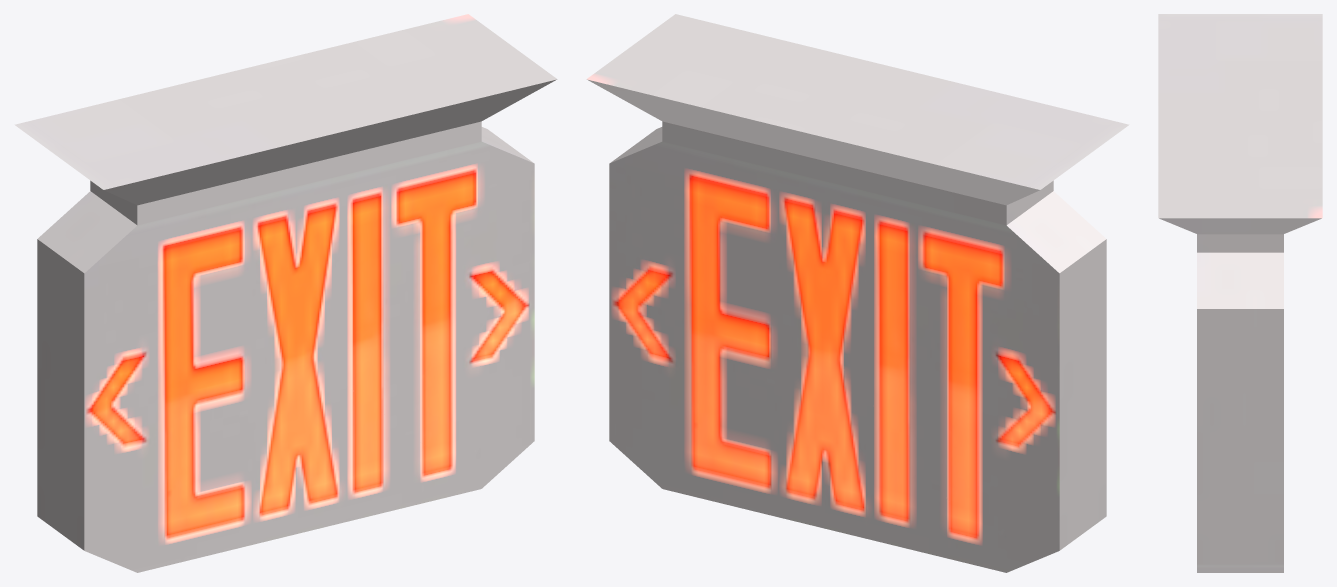
Rendered from sign_exit.fbx.
3 views of the same model, side by side, from view 1: azimuth 30°, elevation 25°; view 2: azimuth 150°, elevation 25°; view 3: azimuth 270°, elevation 25° (orthographic). The views are drawn at different scales.
Parts seen in each view (by area): view 1: wall_light_exit; view 2: wall_light_exit; view 3: wall_light_exit.
Boxes of the visible parts, x1,y1,x2,y2 form: wall_light_exit: (14,14,557,572); wall_light_exit: (586,14,1129,572); wall_light_exit: (1158,14,1322,572).
Size of the model in its own units: 68.97 by 59.76 by 23.48.
1 material, 1 textured.
